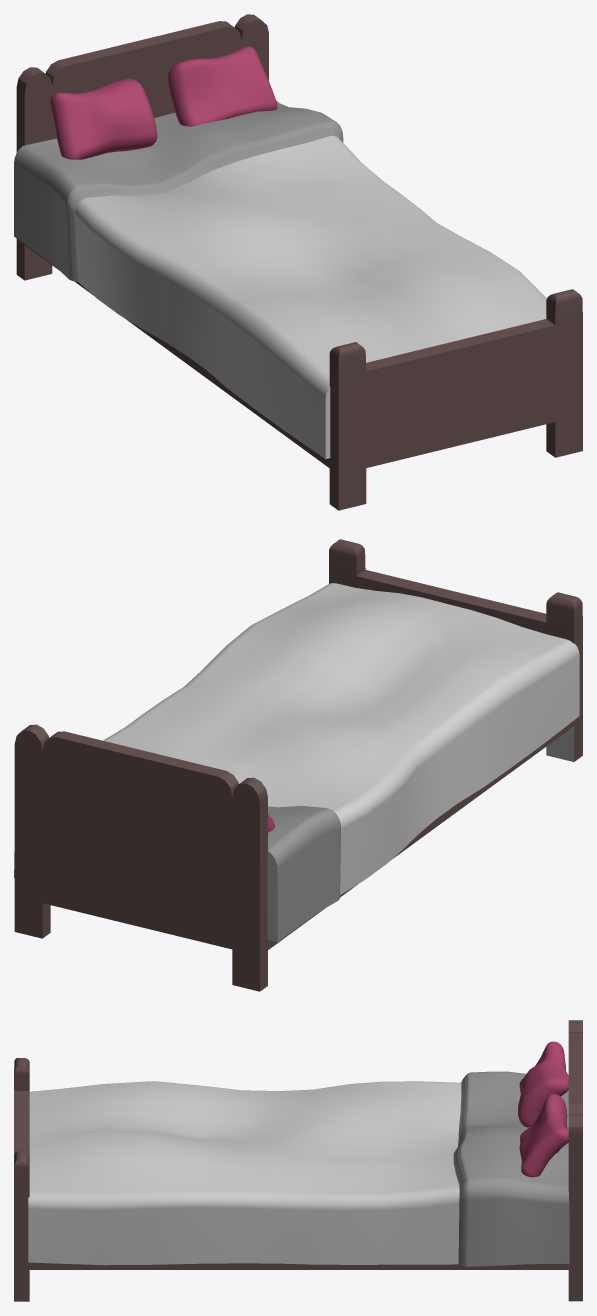
File: New Cama.fbx
3 renders of one model, top to bottom at view 1: azimuth 30°, elevation 25°; view 2: azimuth 150°, elevation 25°; view 3: azimuth 270°, elevation 25°, orthographic. The views are drawn at different scales.
Visible parts, largest first — view 1: cama; view 2: cama; view 3: cama.
Boxes of the visible parts, bbox=[...] form: cama: bbox=[14, 14, 582, 510]; cama: bbox=[14, 539, 582, 991]; cama: bbox=[14, 1020, 582, 1301].
Bounding box in the file's own units: 98.94 × 69.84 × 199.
